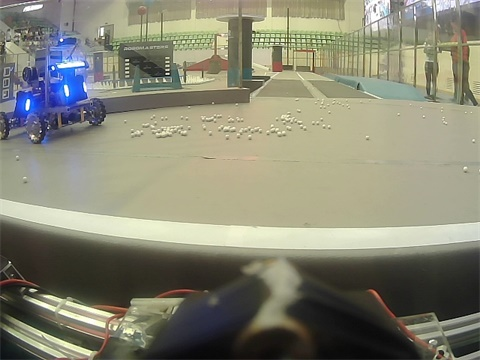chariot: (2, 41, 111, 153)
